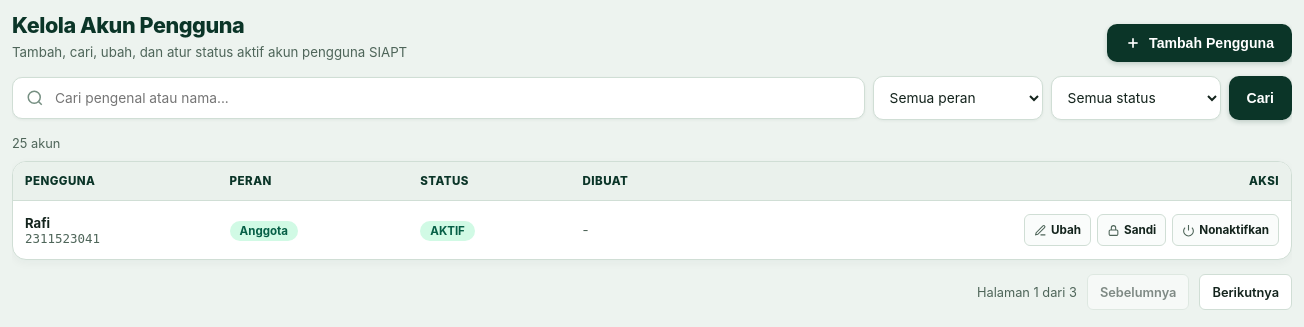
KelolaAkun › paginasi memuat halaman berikutnya dan sebelumnya
Expected: the text "Halaman 1 dari 3" is shown, [977,285,1077,300]
Expected: the button "Sebelumnya" is disabled, [1087,274,1189,310]
Click the button "Berikutnya" at point(1246, 292), box [1200,274,1292,310]
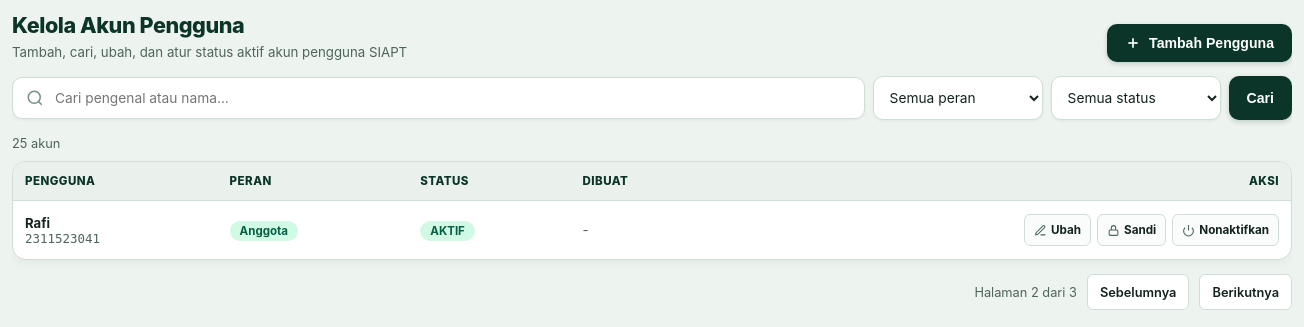
Now the text "Halaman 2 dari 3" is shown, box [974,285,1077,300]
Click the button "Sebelumnya" at point(1138, 292), box [1087,274,1189,310]
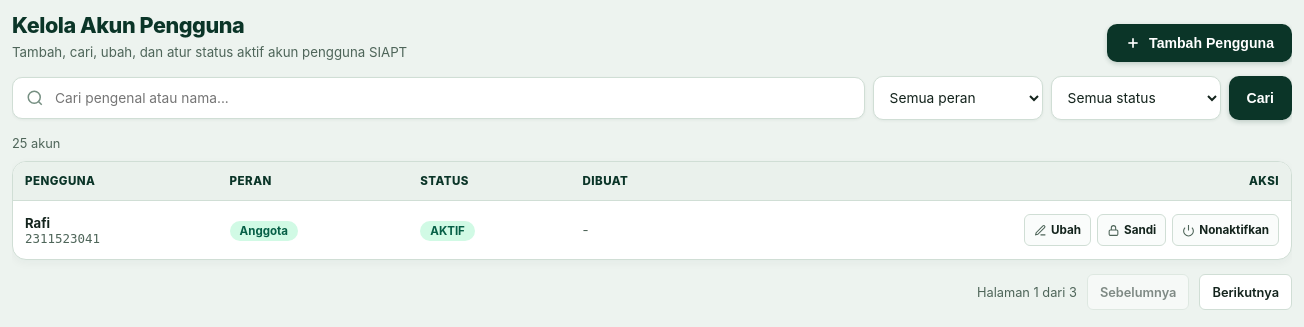
Now the text "Halaman 1 dari 3" is shown, box [977,285,1077,300]
